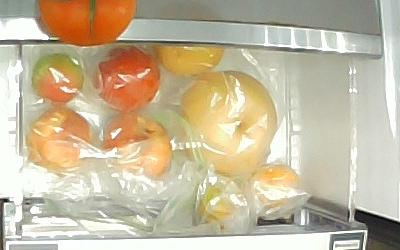peach_vinyl: (101, 112, 172, 177), (24, 104, 92, 170)
pear_vinyl: (174, 69, 277, 175), (151, 43, 225, 76)
tangerine_vinyl: (190, 171, 244, 222), (247, 163, 299, 206)
tomato_vinyl: (89, 43, 161, 111), (30, 51, 84, 103)
